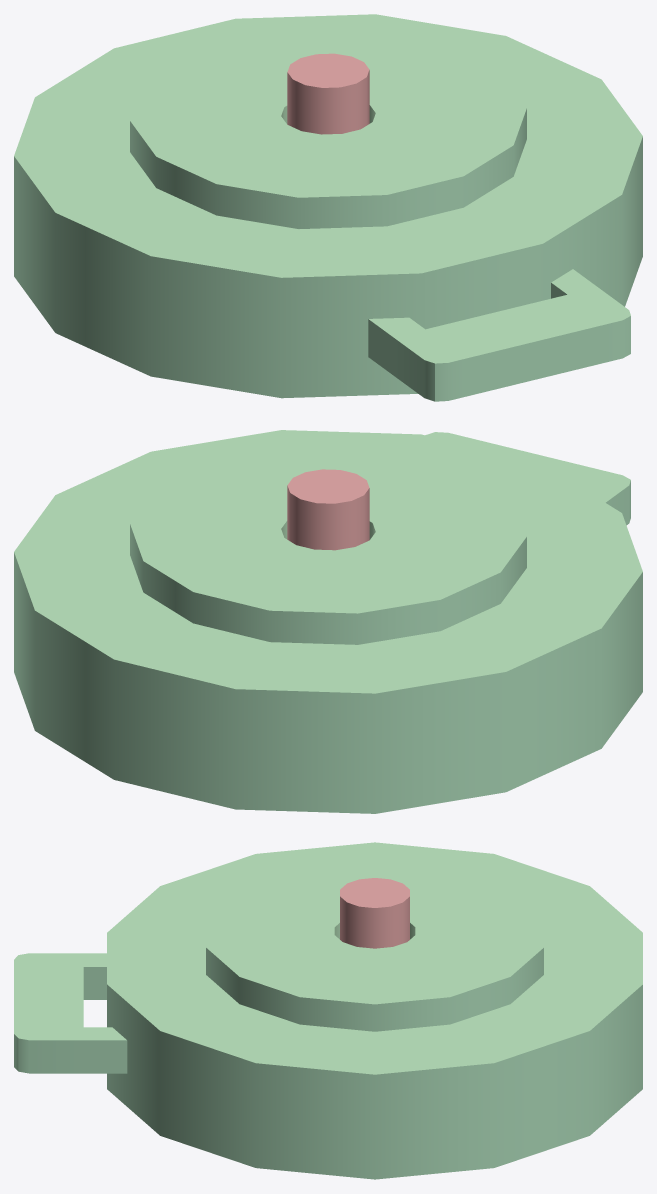
The model's file is mine.fbx.
3 views of the same model, one above another, from view 1: azimuth 30°, elevation 25°; view 2: azimuth 150°, elevation 25°; view 3: azimuth 270°, elevation 25° (orthographic). The views are drawn at different scales.
Parts seen in each view (by area): view 1: mine; view 2: mine; view 3: mine.
Part boxes in pixels (box(x1,y1,x2,y2)): mine: box(14, 14, 642, 401); mine: box(14, 430, 642, 813); mine: box(14, 842, 642, 1179).
Bounding box in the file's own units: 5.11 × 1.75 × 5.85.
